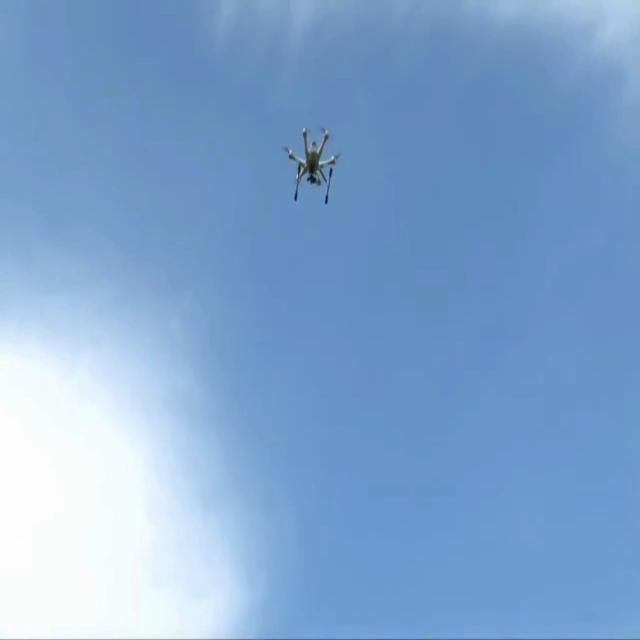drone: (281, 126, 341, 204)
